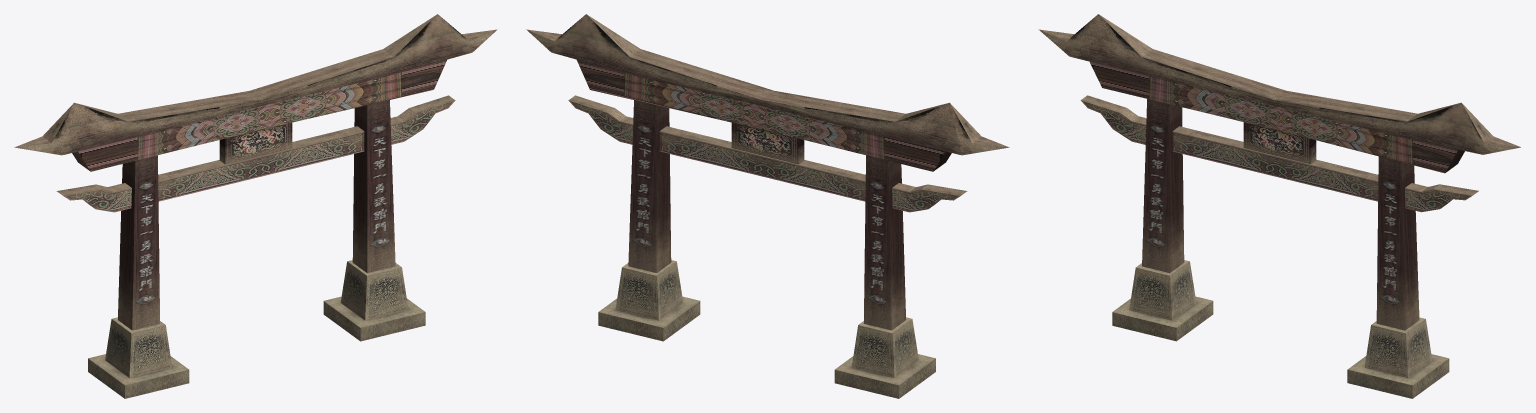
The model's file is desert-035-woodgate_lod_01.fbx.
The picture shows the model from 3 angles, left to right: view 1: azimuth 30°, elevation 25°; view 2: azimuth 150°, elevation 25°; view 3: azimuth 330°, elevation 25°; orthographic projection.
Visible parts, largest first — view 1: ob-035-woodgate; view 2: ob-035-woodgate; view 3: ob-035-woodgate.
Boxes of the visible parts, left/top/right/bottom form: ob-035-woodgate: left=14, top=14, right=497, bottom=398; ob-035-woodgate: left=526, top=14, right=1009, bottom=398; ob-035-woodgate: left=1038, top=14, right=1520, bottom=398.
Bounding box in the file's own units: 14.4 × 8.27 × 1.91.
